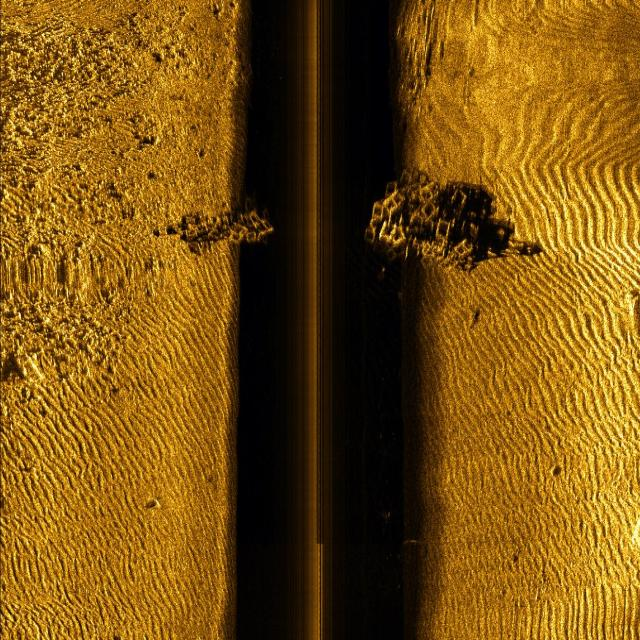artificial reef: (361, 159, 482, 290), (172, 190, 274, 260)
